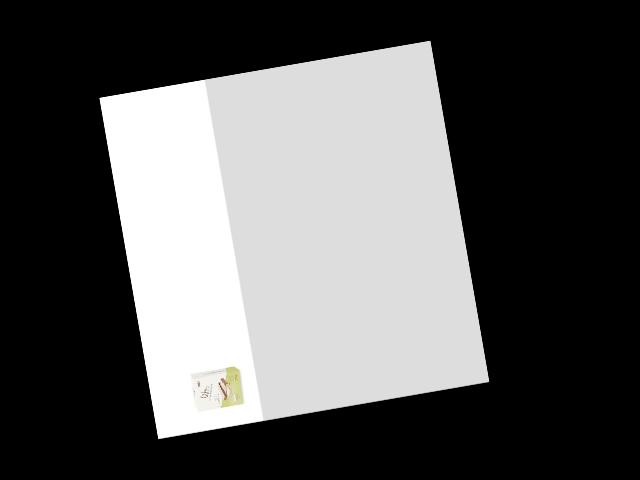chocolate: (188, 362, 246, 413)
